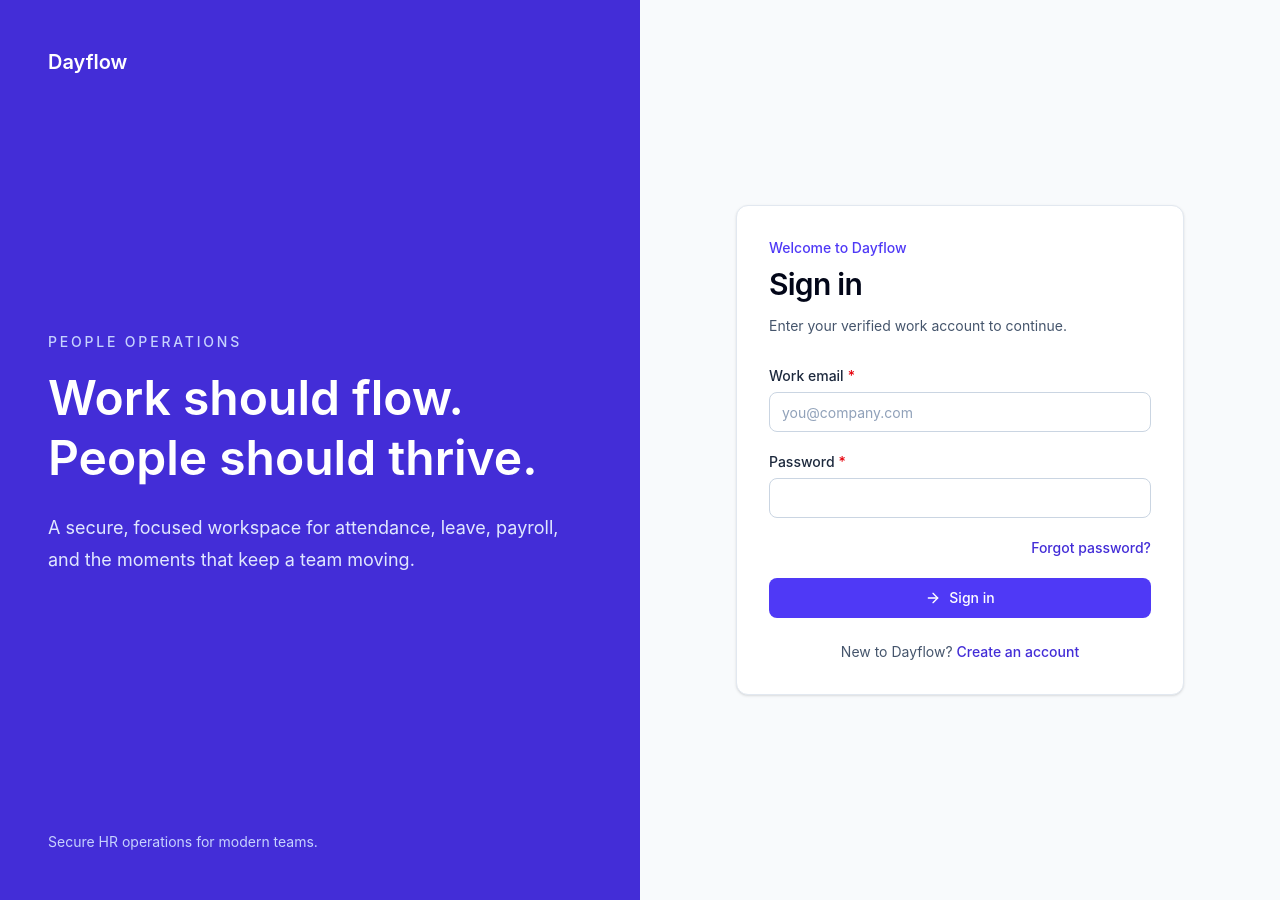
authentication screens › validates the login form before submission
What coordinates should you click on to do the following:
click the button "Sign in"
I would click on:
 (960, 598)
Its box is x1=769 y1=578 x2=1151 y2=618.
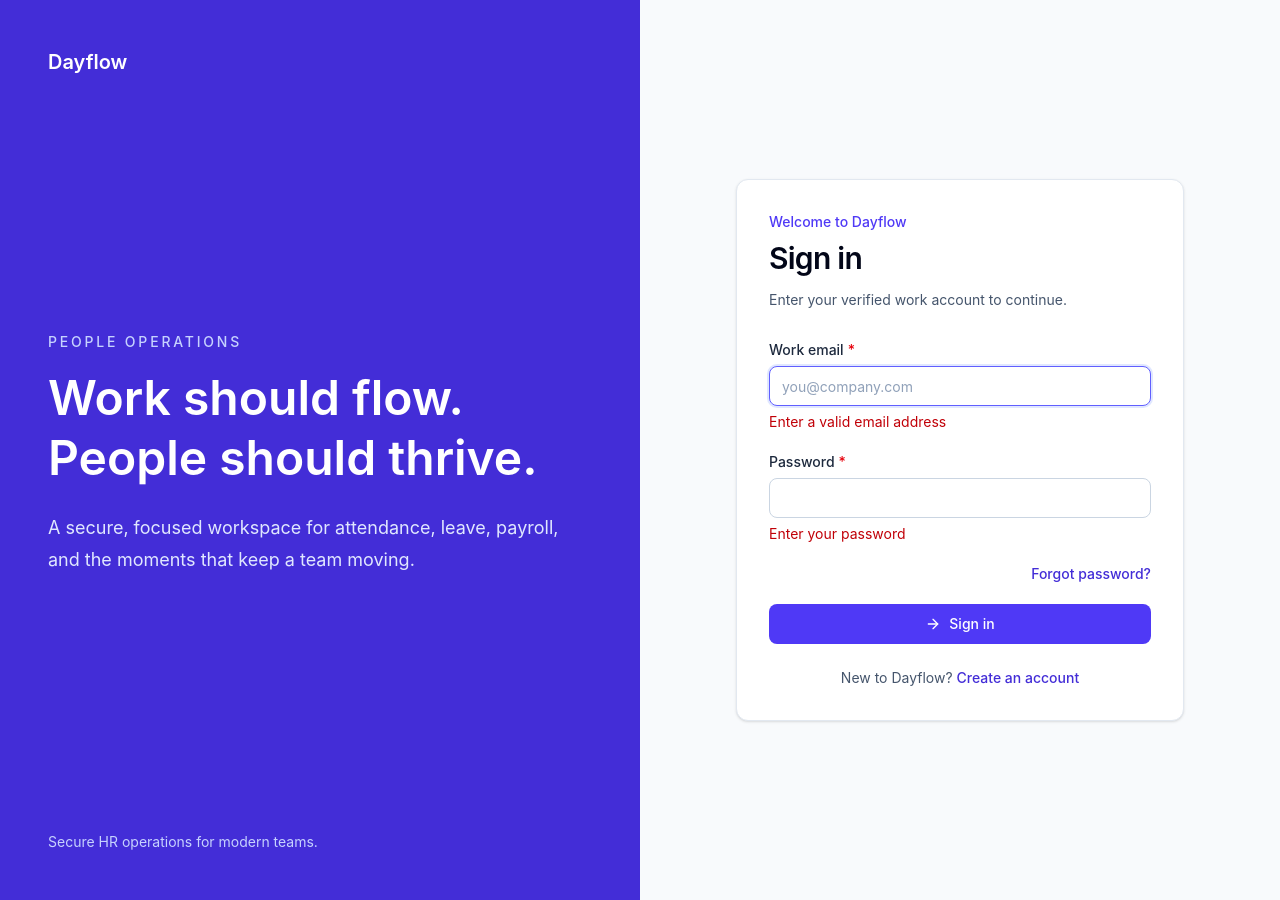
Now the text "Enter a valid email address" is shown, box x1=769 y1=413 x2=946 y2=430
Now the text "Enter your password" is shown, box x1=769 y1=525 x2=906 y2=542
